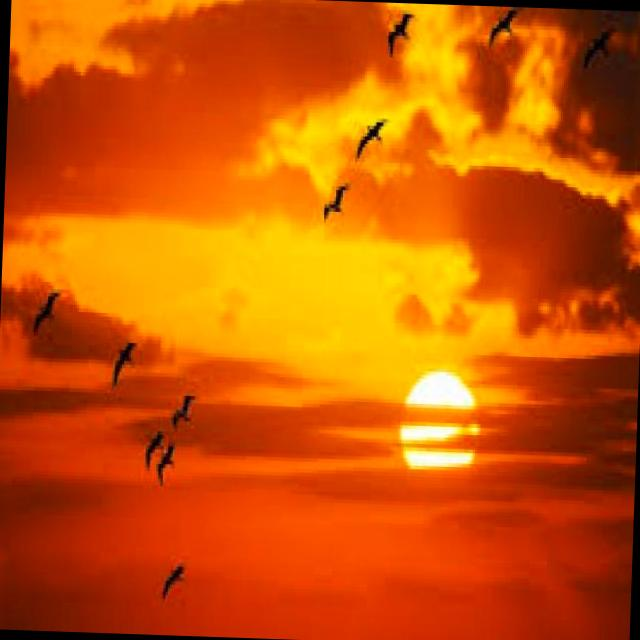bird: (366, 6, 434, 62), (28, 262, 72, 337), (572, 9, 614, 86), (169, 377, 209, 447), (104, 322, 144, 388), (155, 434, 191, 498), (152, 555, 190, 611), (312, 179, 353, 229), (351, 116, 396, 160), (483, 5, 523, 54), (134, 421, 170, 465)
